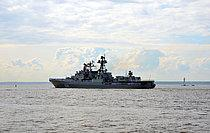MIL_Ship: (47, 54, 158, 89)
